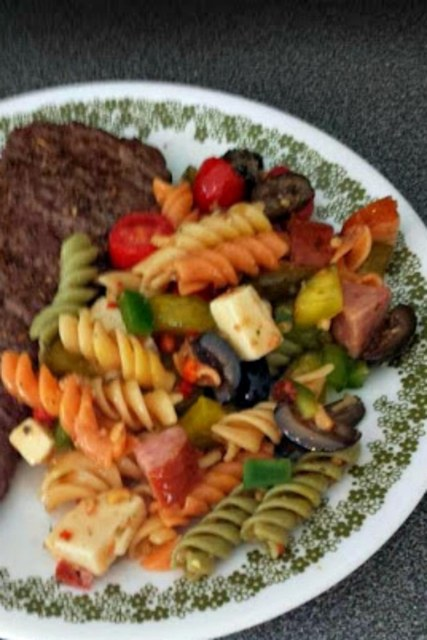tomato: (106, 214, 175, 267), (193, 156, 242, 212)
